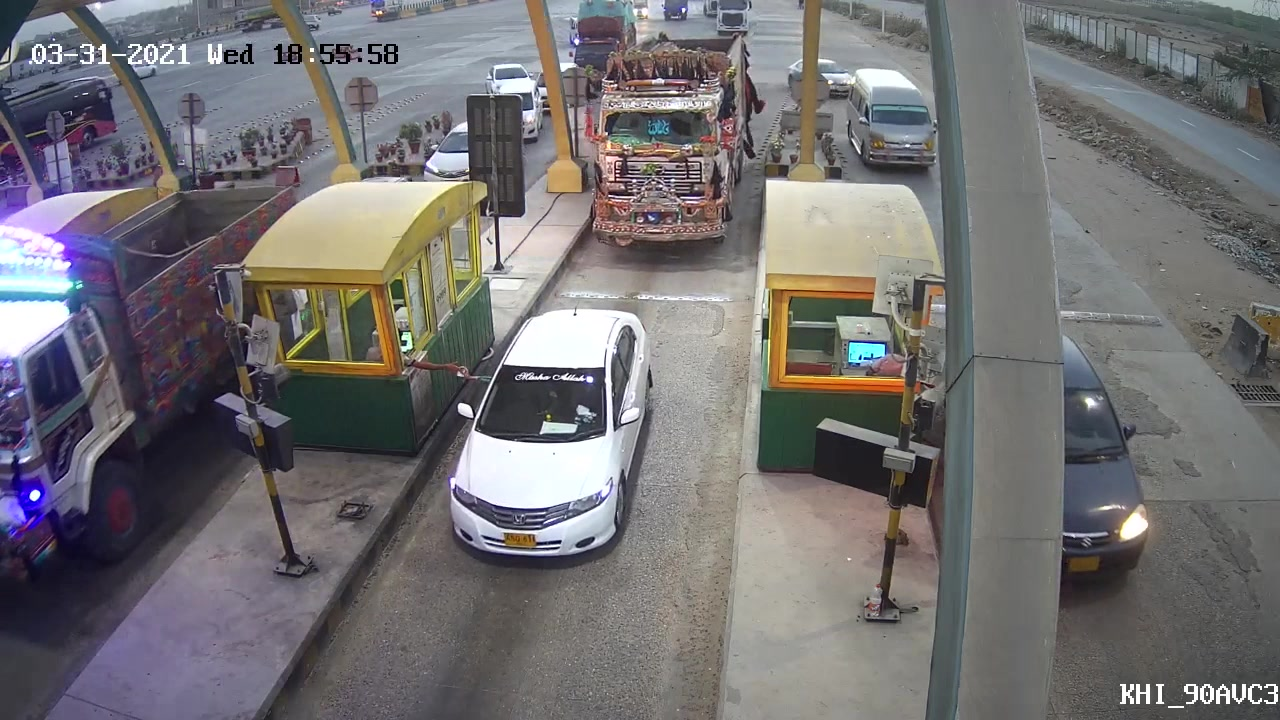F1: (435, 304, 649, 566)
F5: (581, 21, 755, 248)
